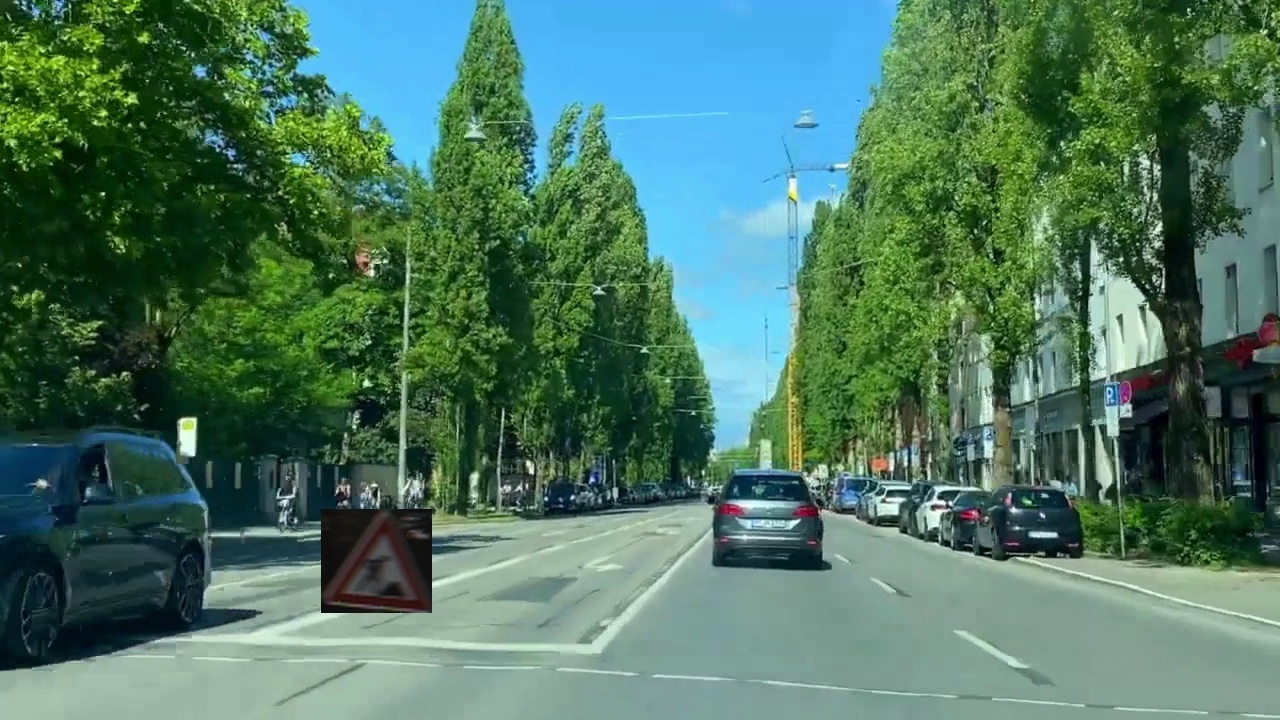Road work: (321, 509, 432, 613)
